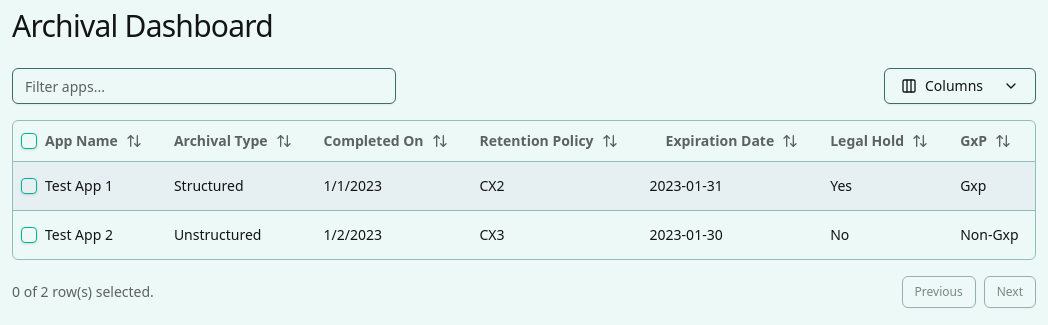
Dashboard Component › handles row selection correctly
This screenshot has width=1048, height=325.
Expected: the text "Test App 1" is shown, [45,176,113,194]
Click the checkbox named "Select row" next to "Test App 1".
click(29, 186)  # box [21,178,37,194]
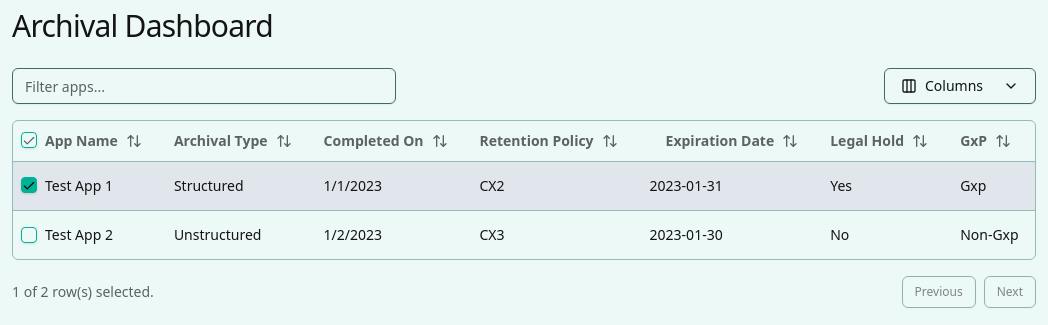
Result: the text "1 of 2 row(s) selected." is shown at [12,282,154,300]
